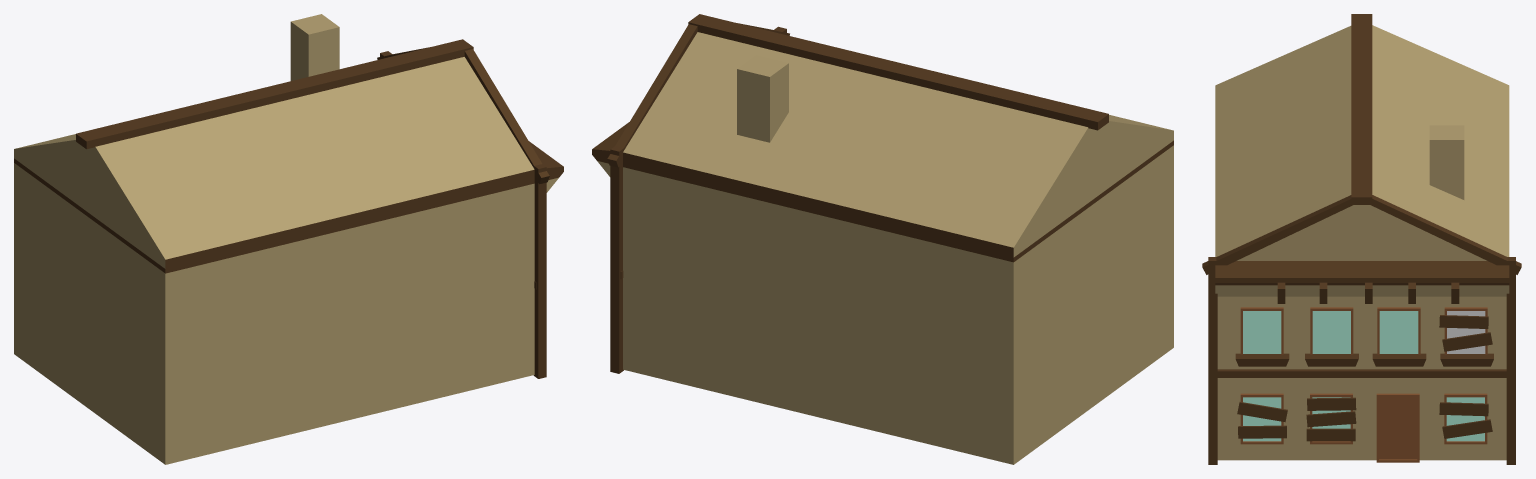
File: generic_house2.fbx
3 renders of one model, left to right at view 1: azimuth 30°, elevation 25°; view 2: azimuth 150°, elevation 25°; view 3: azimuth 270°, elevation 25°, orthographic. The views are drawn at different scales.
Parts seen in each view (by area): view 1: Cube.037; view 2: Cube.037; view 3: Cube.037.
Part boxes in pixels (x1=…): Cube.037: x1=14, y1=14, x2=563, y2=464; Cube.037: x1=592, y1=14, x2=1173, y2=464; Cube.037: x1=1202, y1=14, x2=1521, y2=464.
Bounding box in the file's own units: 3731 × 2508 × 2583.
